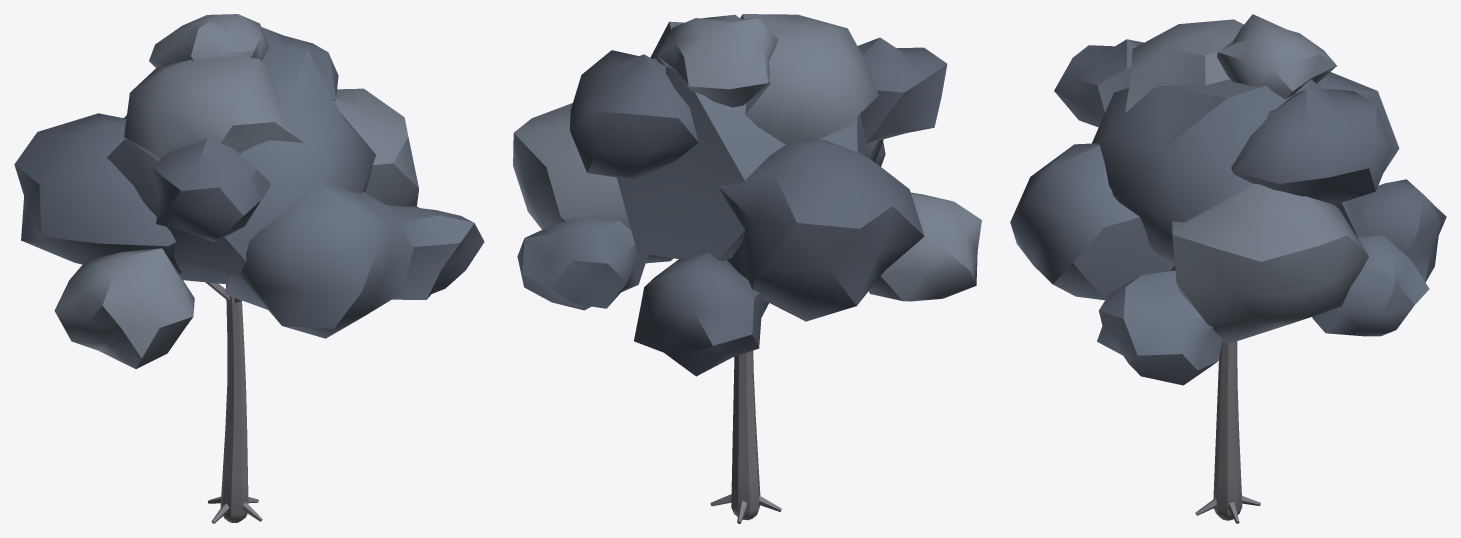
The model's file is tree_stormoak.gltf.
The picture shows the model from 3 angles, left to right: view 1: azimuth 30°, elevation 25°; view 2: azimuth 150°, elevation 25°; view 3: azimuth 270°, elevation 25°; orthographic projection. The views are drawn at different scales.
Visible parts, largest first — view 1: Body; view 2: Body; view 3: Body.
Part boxes in pixels (<box>): Body: <box>14,14,484,523</box>; Body: <box>513,14,981,523</box>; Body: <box>1010,14,1446,523</box>.
Size of the model in its own units: 9.58 by 11.14 by 8.95.
